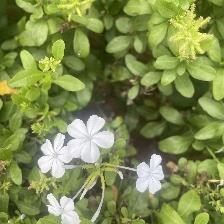chitrak: (67, 113, 113, 167), (40, 133, 74, 179), (45, 189, 84, 224), (137, 152, 166, 195)
